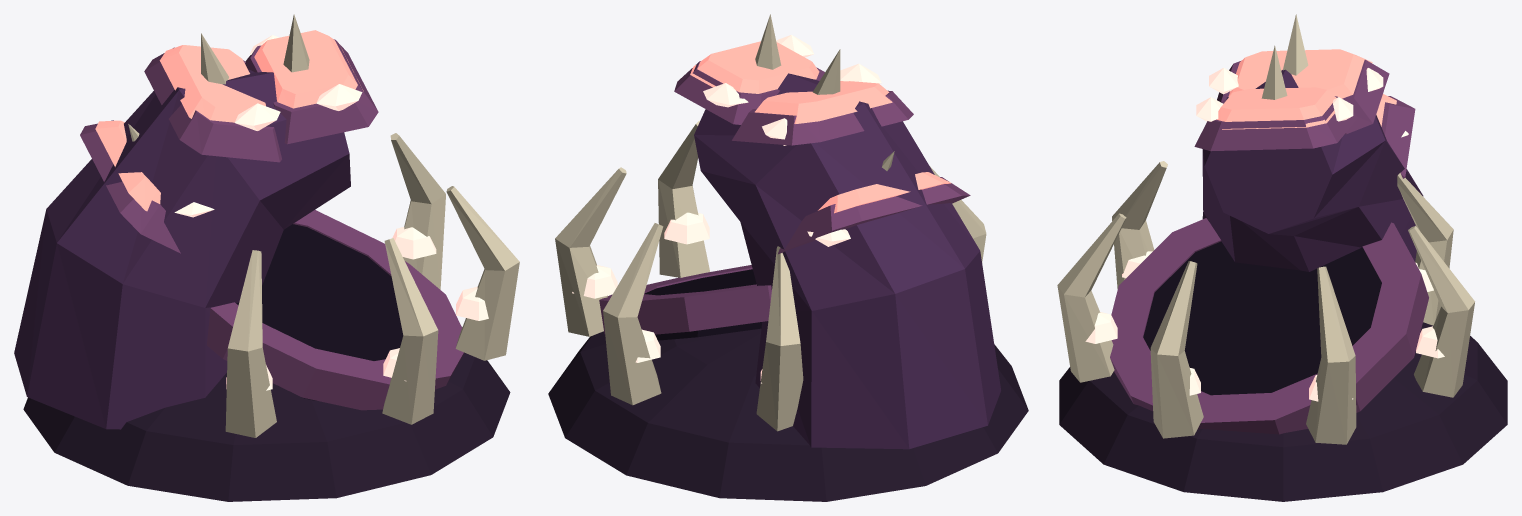
Rendered from tunnel_mouth.glb.
3 views of the same model, side by side, from view 1: azimuth 30°, elevation 25°; view 2: azimuth 150°, elevation 25°; view 3: azimuth 270°, elevation 25° (orthographic). The views are drawn at different scales.
Visible parts, largest first — view 1: Surf_chit, Surf_dark, Surf_bone, Surf_warm, Surf_maw, Surf_TEAM, Surf_GLOW; view 2: Surf_chit, Surf_dark, Surf_bone, Surf_warm, Surf_TEAM, Surf_GLOW, Surf_maw; view 3: Surf_dark, Surf_bone, Surf_warm, Surf_chit, Surf_maw, Surf_TEAM, Surf_GLOW.
Boxes of the visible parts, x1,y1,x2,y2 form: Surf_chit: (14, 69, 350, 429); Surf_dark: (23, 327, 510, 501); Surf_bone: (128, 14, 519, 437); Surf_warm: (80, 39, 464, 410); Surf_maw: (236, 224, 403, 400); Surf_TEAM: (95, 30, 363, 211); Surf_GLOW: (174, 35, 488, 390); Surf_chit: (694, 73, 1000, 449); Surf_dark: (548, 328, 1028, 501); Surf_bone: (555, 14, 986, 431); Surf_warm: (599, 61, 970, 334); Surf_TEAM: (690, 41, 950, 213); Surf_GLOW: (572, 35, 881, 383); Surf_maw: (644, 269, 762, 340); Surf_dark: (1059, 322, 1507, 501); Surf_bone: (1057, 14, 1474, 444); Surf_warm: (1110, 59, 1428, 434); Surf_chit: (1202, 69, 1423, 271); Surf_maw: (1143, 241, 1381, 395); Surf_TEAM: (1217, 49, 1396, 129); Surf_GLOW: (1085, 68, 1444, 401).
Bounding box in the file's own units: 4.51 × 3.82 × 4.23.
